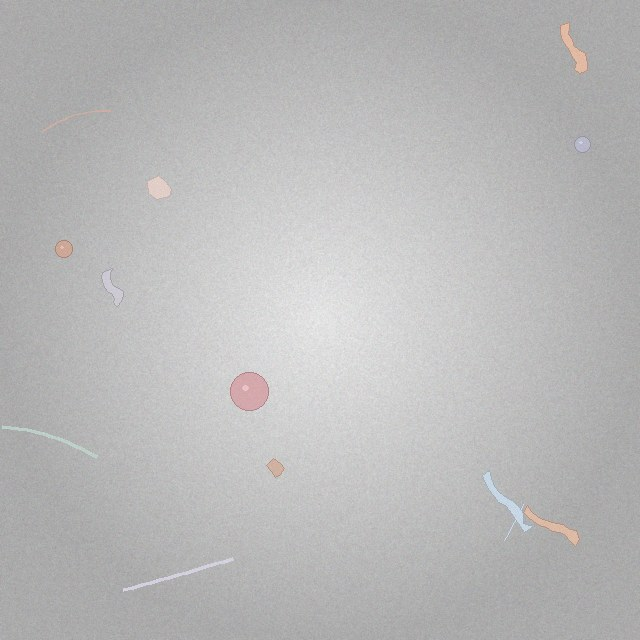fiber: (118, 555, 237, 595), (0, 422, 100, 461), (39, 109, 113, 135), (503, 503, 525, 543)
film: (482, 471, 533, 533), (523, 506, 579, 547), (560, 22, 587, 73), (102, 269, 124, 306)
fragment: (147, 175, 172, 199), (266, 459, 284, 478)
pellet: (230, 373, 268, 410), (55, 240, 73, 258), (575, 136, 591, 152)
